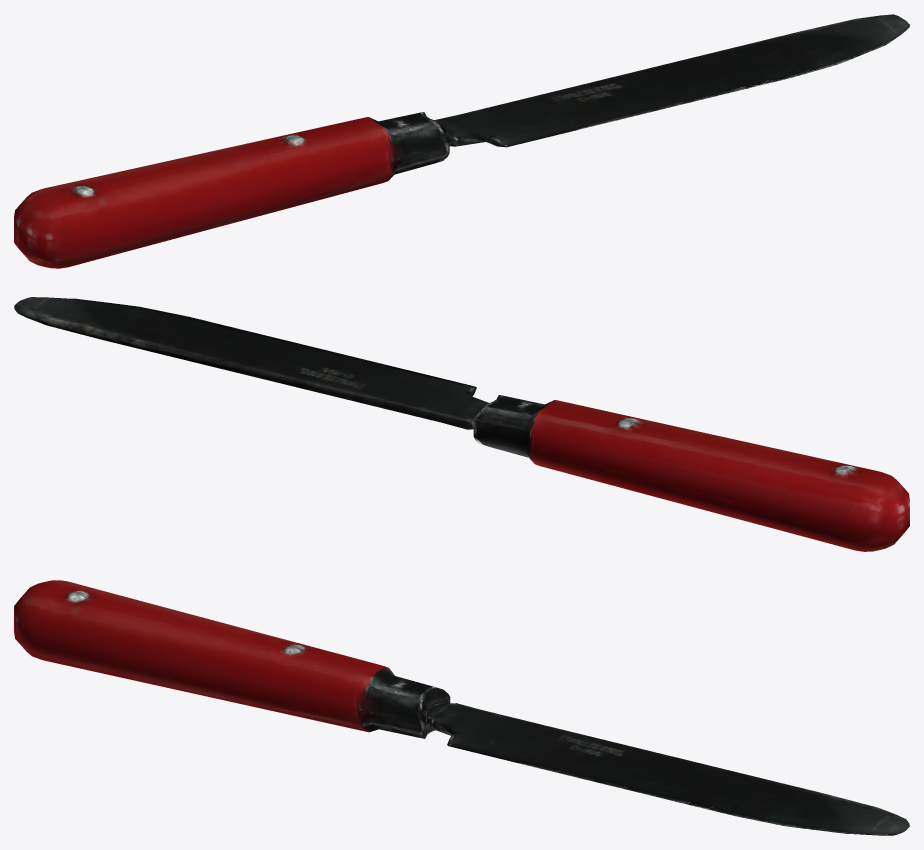
Rendered from 032_knife.dae.
The picture shows the model from 3 angles, top to bottom: view 1: azimuth 30°, elevation 25°; view 2: azimuth 150°, elevation 25°; view 3: azimuth 330°, elevation 25°; orthographic projection.
Parts seen in each view (by area): view 1: 032_knife; view 2: 032_knife; view 3: 032_knife.
Part boxes in pixels (x1,y1,x2,y2): 032_knife: [14, 14, 909, 268]; 032_knife: [14, 297, 909, 551]; 032_knife: [14, 580, 909, 835].
Size of the model in its own units: 0.2144 by 0.0216 by 0.0166.
Materials: 1 (1 with a texture image).
